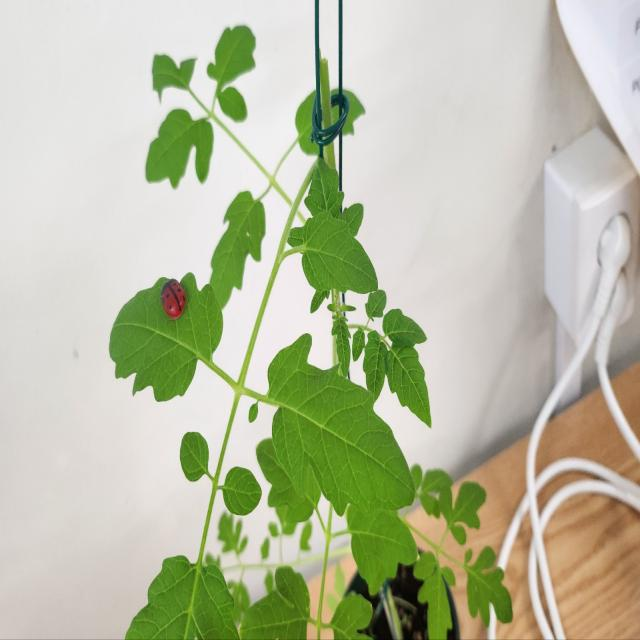bug: (155, 276, 192, 330)
